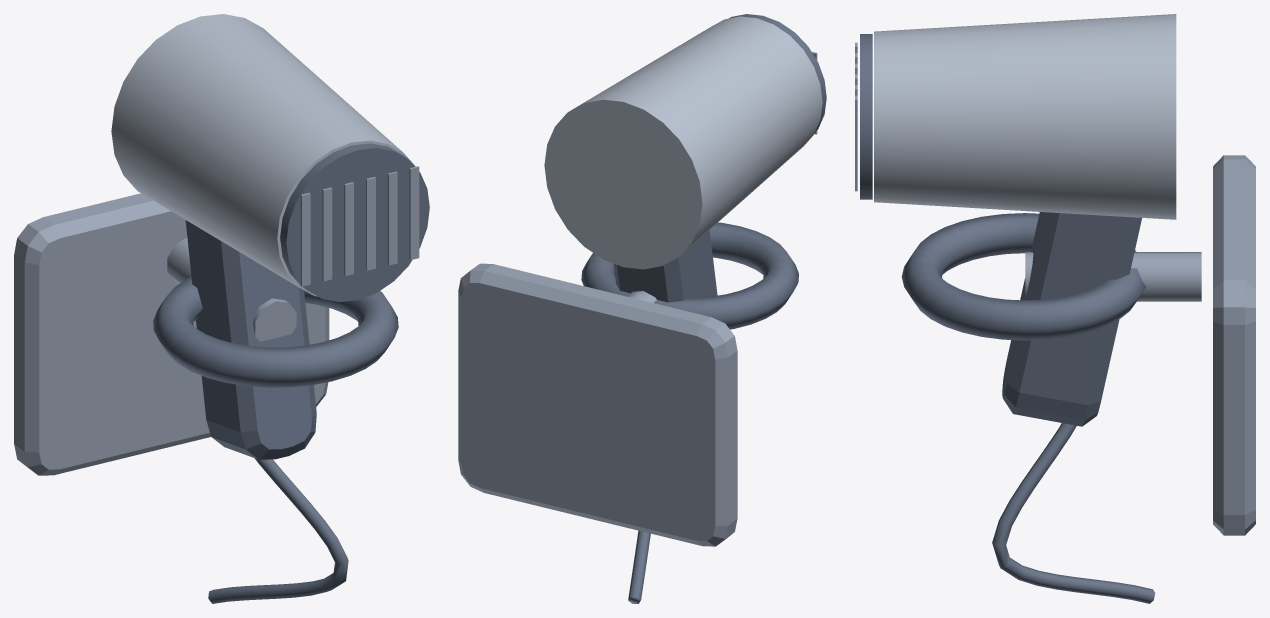
File: 吹风机支架-lite.glb
3 renders of one model, left to right at view 1: azimuth 30°, elevation 25°; view 2: azimuth 150°, elevation 25°; view 3: azimuth 270°, elevation 25°, orthographic. The views are drawn at different scales.
Parts seen in each view (by area): view 1: body, dark, soft; view 2: body, soft, dark; view 3: soft, dark, body.
Boxes of the visible parts, left/top/right/bottom form: body: left=14, top=166, right=419, bottom=475; dark: left=153, top=143, right=429, bottom=603; soft: left=111, top=14, right=415, bottom=296; body: left=458, top=52, right=817, bottom=546; soft: left=544, top=16, right=822, bottom=269; dark: left=581, top=14, right=826, bottom=603; soft: left=874, top=14, right=1176, bottom=219; dark: left=860, top=34, right=1155, bottom=603; body: left=855, top=42, right=1255, bottom=535.
Size of the model in its own units: 0.14 by 0.2535 by 0.159.
